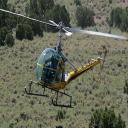helicopter: (23, 21, 109, 113)
